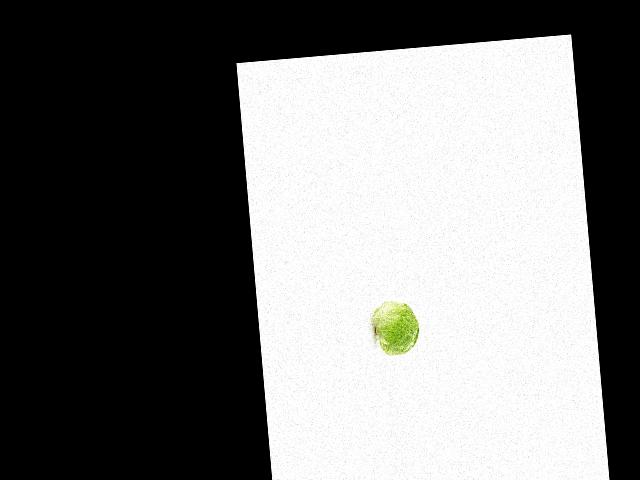lettuce: (374, 298, 423, 363)
